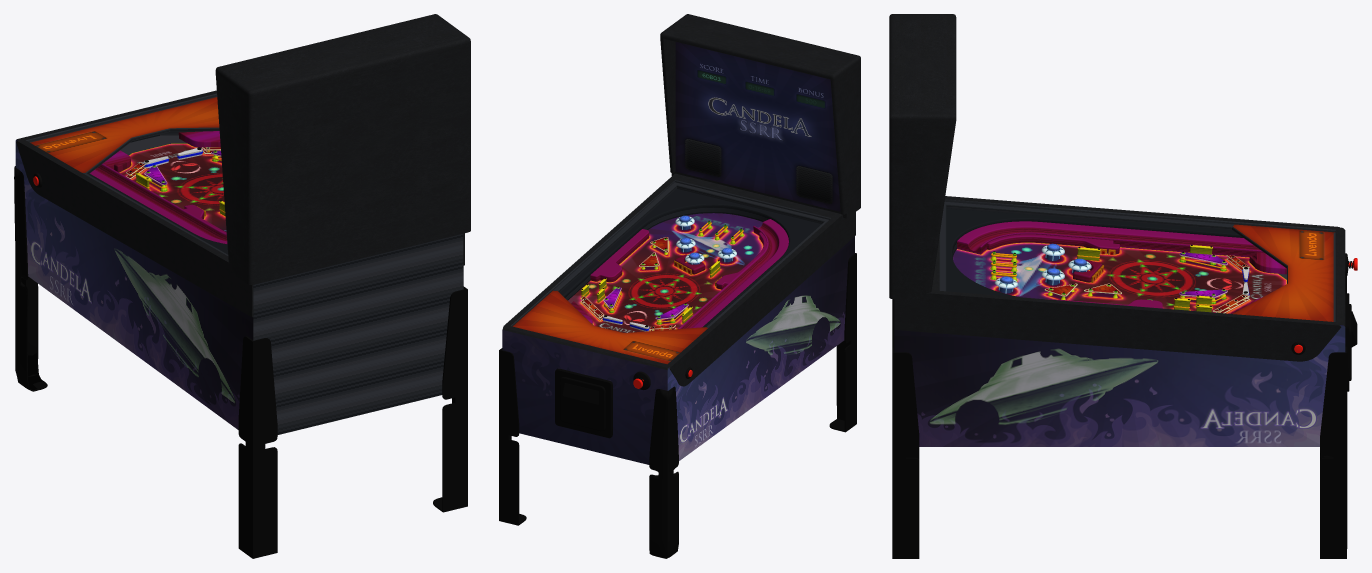
Rendered from PinballTable.FBX.
The picture shows the model from 3 angles, left to right: view 1: azimuth 30°, elevation 25°; view 2: azimuth 150°, elevation 25°; view 3: azimuth 270°, elevation 25°; orthographic projection. The views are drawn at different scales.
Parts seen in each view (by area): view 1: Pinball01, Pinball00, Pinshellsides, Pinball03, Pinball10, Pinball11, topsurfbot, P_mainsurface, Pinball09, Pinball20, Pinball81; view 2: Pinshellsides, PinballPanelfront, Pinball01, P_mainsurface, Pinball03, topsurfbot, Pinball09, Pinball02, Pinball12, Pinball18, Pinball00, Pinball10 (+2 smaller); view 3: Pinshellsides, Pinball03, Pinball01, P_mainsurface, topsurfbot, Pinball11, Pinball12, Pinball20, Pinball00, Pinball02, Pinball84, Pinball18.
Part boxes in pixels (<box>): Pinball01: <box>215,14,470,284</box>; Pinball00: <box>26,93,463,434</box>; Pinshellsides: <box>15,139,253,429</box>; Pinball03: <box>16,90,464,317</box>; Pinball10: <box>238,336,277,558</box>; Pinball11: <box>433,286,467,512</box>; topsurfbot: <box>30,97,219,172</box>; P_mainsurface: <box>119,143,226,232</box>; Pinball09: <box>14,166,47,391</box>; Pinball20: <box>90,163,227,243</box>; Pinball81: <box>178,131,220,147</box>; Pinshellsides: <box>502,236,854,464</box>; PinballPanelfront: <box>675,42,840,211</box>; Pinball01: <box>660,14,860,218</box>; P_mainsurface: <box>568,213,763,332</box>; Pinball03: <box>502,173,855,386</box>; topsurfbot: <box>513,290,707,364</box>; Pinball09: <box>649,386,678,558</box>; Pinball02: <box>560,189,821,327</box>; Pinball12: <box>499,348,526,525</box>; Pinball18: <box>555,368,612,438</box>; Pinball00: <box>503,180,830,369</box>; Pinball10: <box>829,253,856,432</box>; Pinshellsides: <box>894,325,1345,446</box>; Pinball03: <box>894,196,1345,361</box>; Pinball01: <box>889,14,956,298</box>; P_mainsurface: <box>953,242,1286,313</box>; topsurfbot: <box>1233,224,1334,321</box>; Pinball11: <box>892,347,919,558</box>; Pinball12: <box>1320,346,1347,558</box>; Pinball20: <box>957,221,1263,257</box>; Pinball00: <box>939,199,1343,325</box>; Pinball02: <box>946,208,1242,297</box>; Pinball84: <box>987,234,1119,254</box>; Pinball18: <box>1345,293,1357,391</box>.
Bounding box in the file's own units: 401 × 808 × 771.
